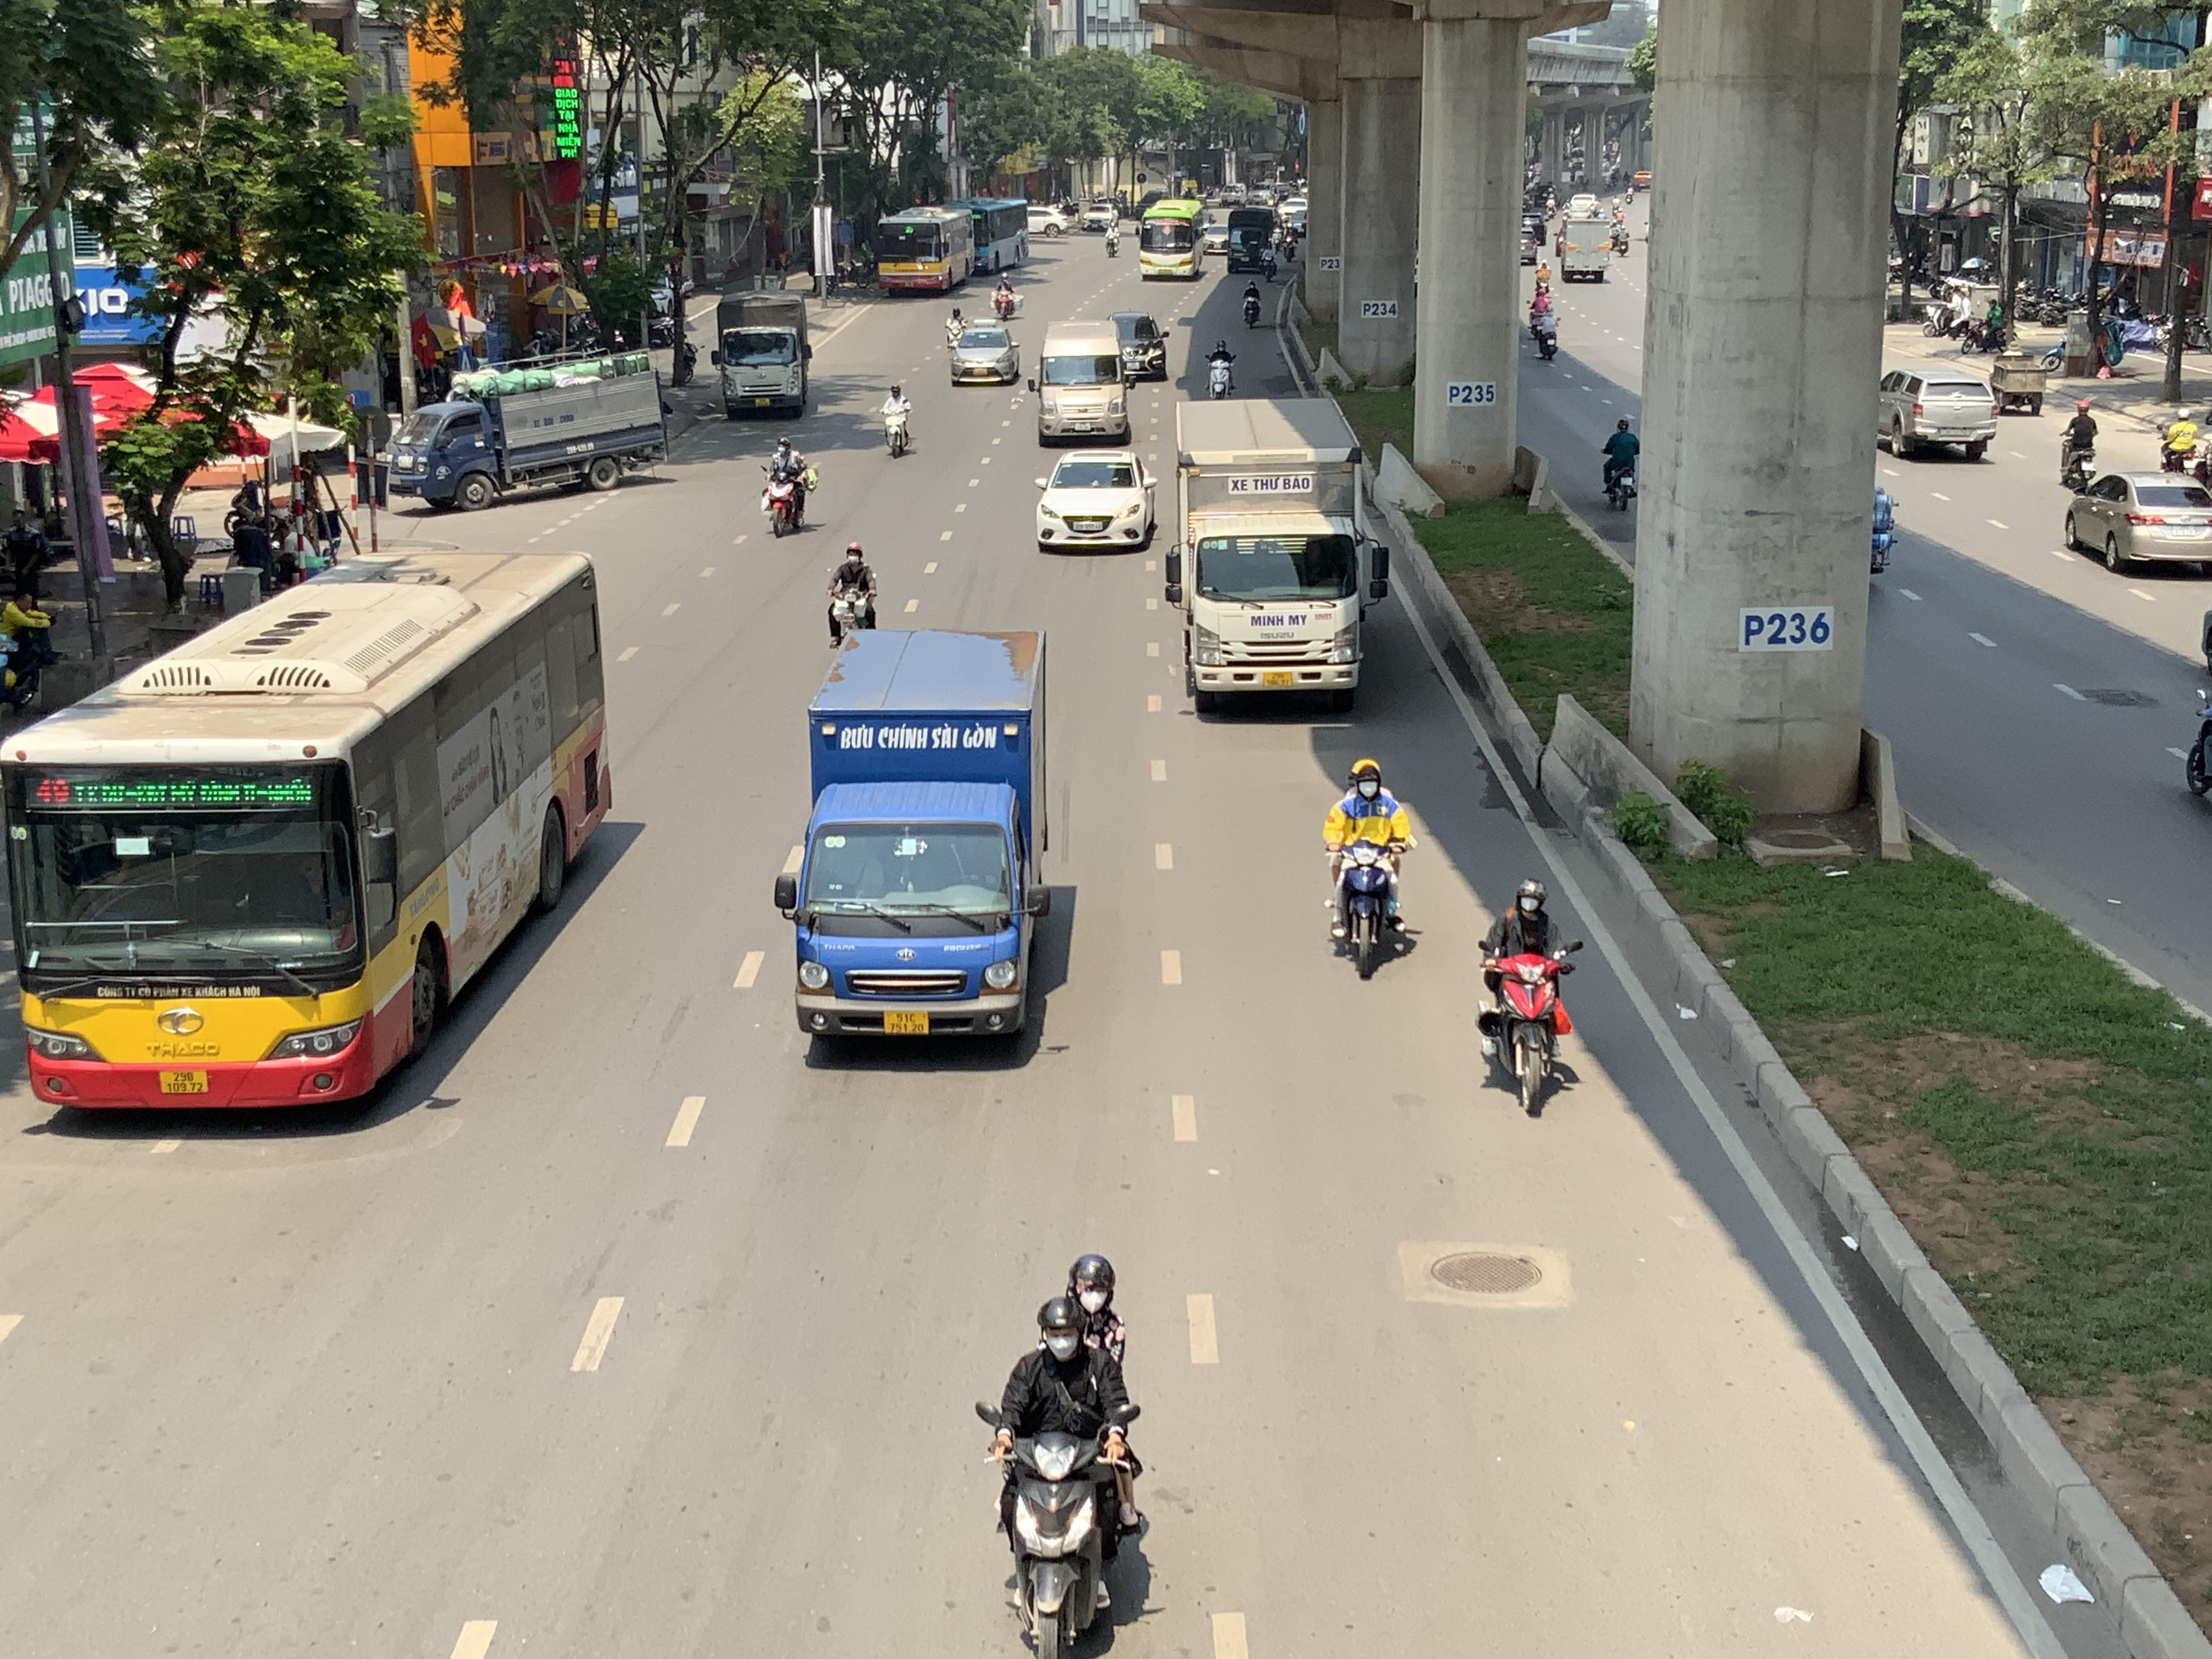BSV: (158, 1070, 209, 1094), (883, 1011, 928, 1033), (1263, 671, 1294, 688)
bus: (2, 549, 615, 1112), (1028, 317, 1130, 446), (876, 206, 974, 295), (942, 197, 1029, 268), (1137, 197, 1207, 281)
car: (2064, 469, 2212, 575), (1035, 450, 1157, 552), (1878, 366, 2000, 462), (948, 321, 1021, 385), (1108, 310, 1169, 380)
motorbike: (977, 1258, 1153, 1659), (1475, 877, 1580, 1119), (1325, 758, 1416, 983), (0, 587, 57, 714), (826, 542, 878, 647), (763, 436, 815, 537), (2158, 403, 2209, 479), (2059, 399, 2101, 491), (1601, 415, 1639, 512), (1961, 296, 2017, 356), (1921, 284, 1972, 340), (881, 380, 913, 458), (1205, 336, 1237, 399), (1534, 305, 1559, 361), (993, 274, 1021, 321), (1240, 275, 1264, 326)
truck: (773, 626, 1062, 1051), (1163, 396, 1392, 714), (385, 354, 669, 511), (714, 289, 813, 418)
